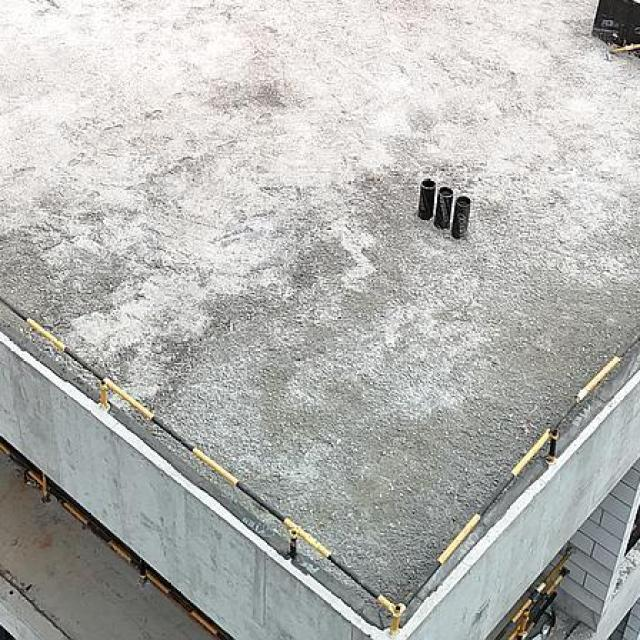edge_guardrail: (0, 290, 640, 640), (0, 440, 233, 640), (491, 545, 572, 640)
